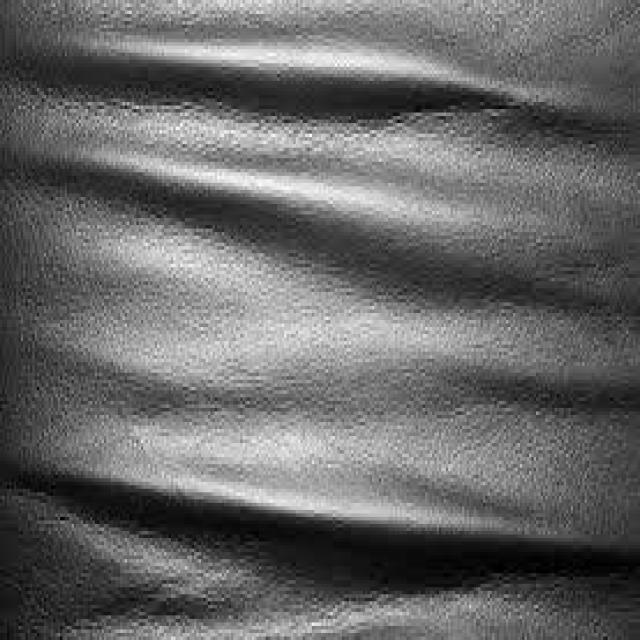Crease: (133, 478, 532, 590), (196, 324, 519, 437), (156, 139, 464, 255), (156, 17, 495, 118)
